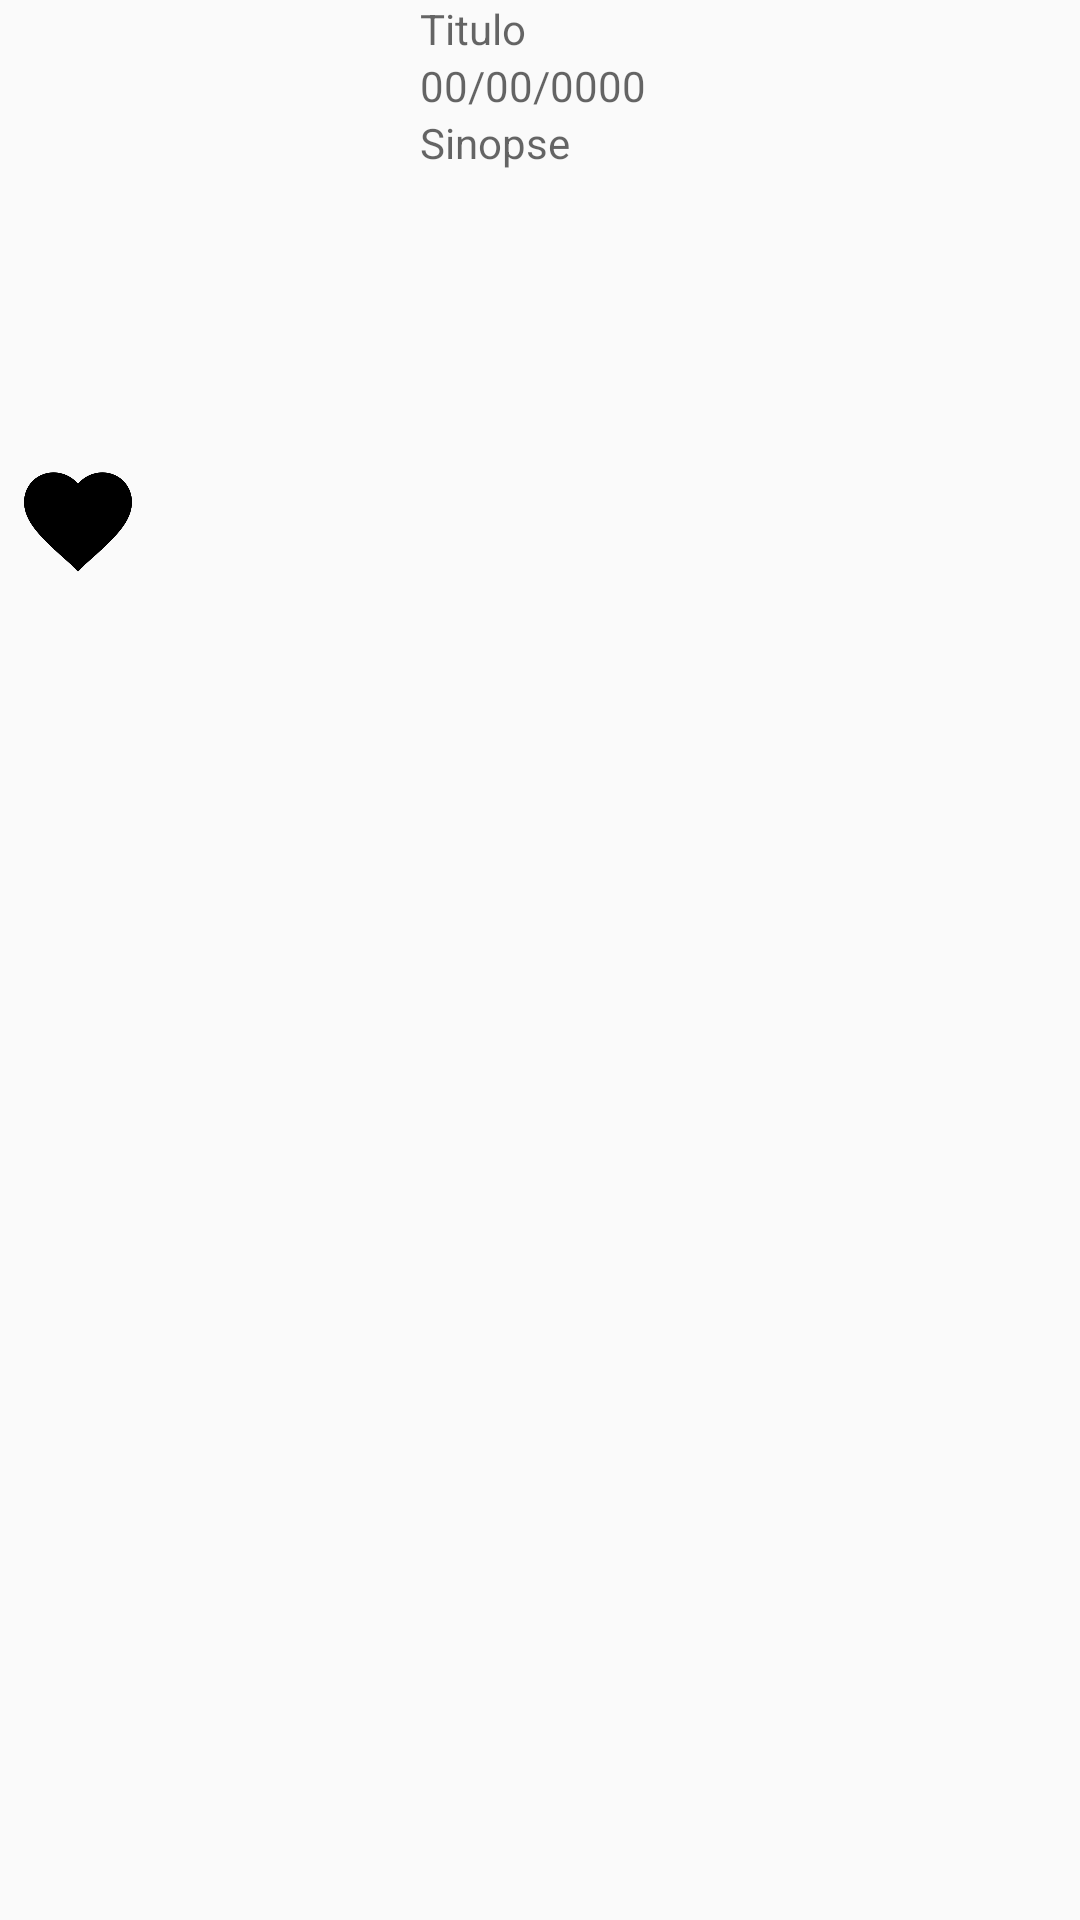

Icons on this 1080×1920 Android screen, each with the point to tap as point (x, y):
favoriteoff: point (78, 521)
